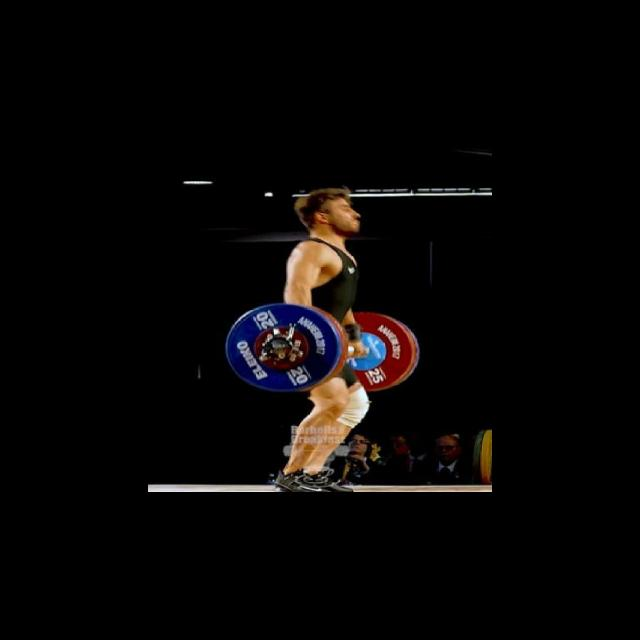barbell: (220, 297, 354, 396)
